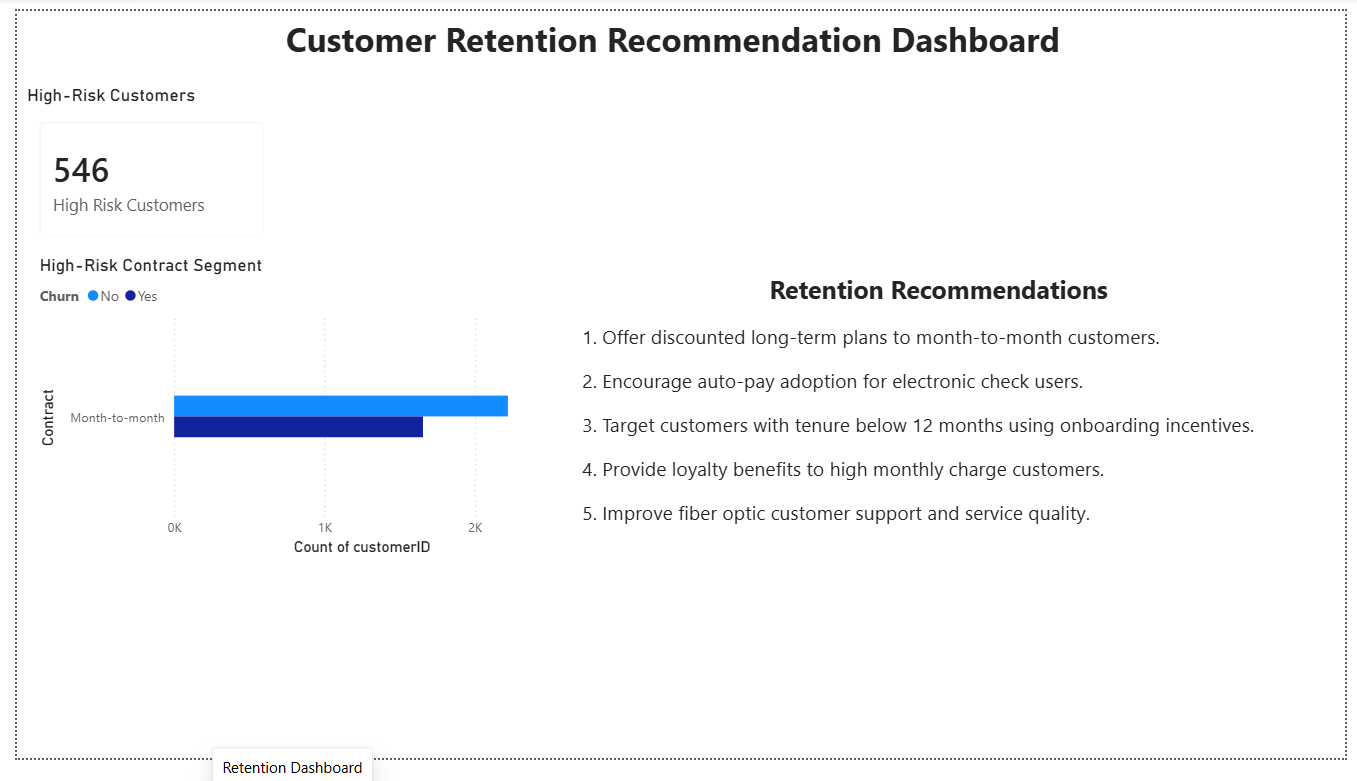

The page's visual inventory and layout, read from the dashboard file:
{"tool":"powerbi","page":{"name":"Retention Dashboard","canvas":[1280,720],"ordinal":1},"visuals":[{"type":"textbox","box":[254.7,0,769.8,55.8],"z":0},{"type":"cardVisual","title":"High-Risk Customers","fields":{"Data":["cleaned_telco_churn.High Risk Customers"]},"box":[4.7,70.9,250,164],"z":1},{"type":"clusteredBarChart","title":"High-Risk Contract Segment","fields":{"Category":["cleaned_telco_churn.Contract"],"Y":["CountNonNull(cleaned_telco_churn.customerID)"],"Series":["cleaned_telco_churn.Churn"]},"box":[16.5,234.6,509.1,295],"z":2},{"type":"textbox","box":[539.3,247,697.1,340.3],"z":3}]}

Visuals, with their boxes on the page's 1280x720 design canvas (x1, y1, x2, y2). These are canvas units, not pixel positions in the 1357x781 screenshot, which may show the page scaled, cropped or inside an application window:
textbox: crop(255, 0, 1024, 56)
"High-Risk Customers" cardVisual: crop(5, 71, 255, 235)
"High-Risk Contract Segment" clusteredBarChart: crop(16, 235, 526, 530)
textbox: crop(539, 247, 1236, 587)
